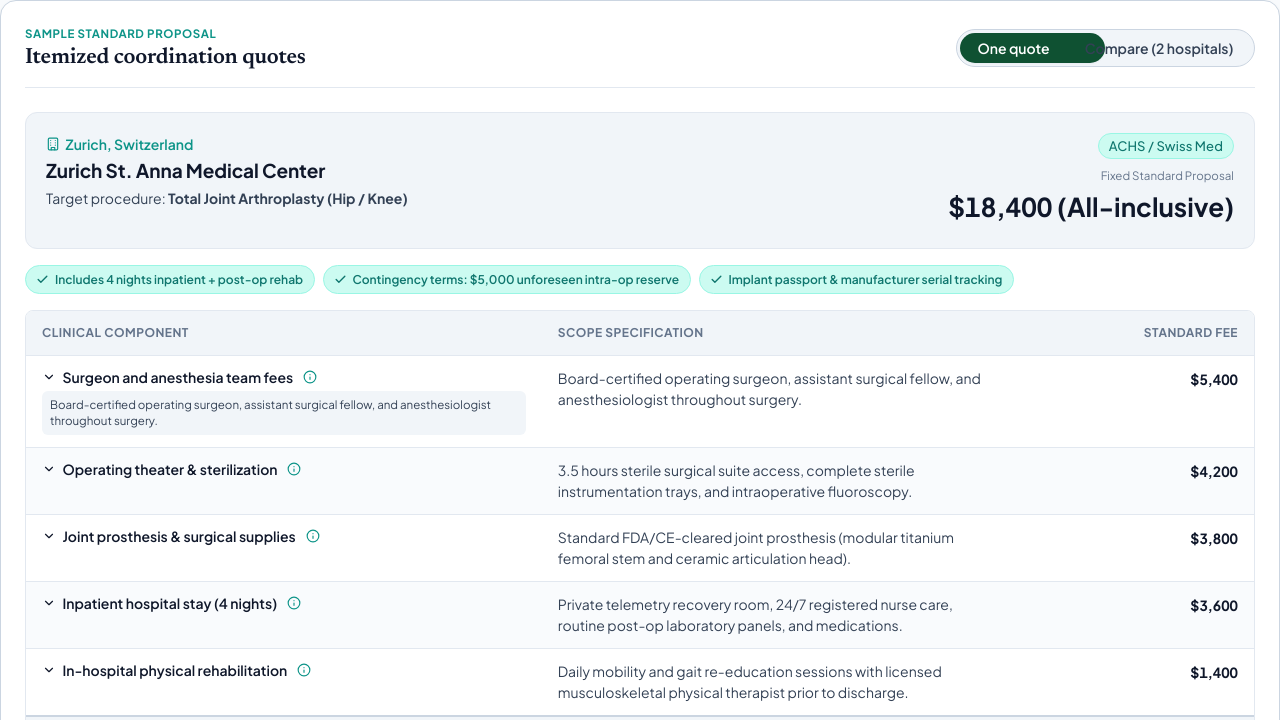
Test case: Interactive ProposalCompare Component › switches to compare mode showing both hospital quotes
This screenshot has width=1280, height=720.
Click the radio button labelled "Compare (2 hospitals)".
click(1159, 48)  # box [1067, 33, 1251, 63]
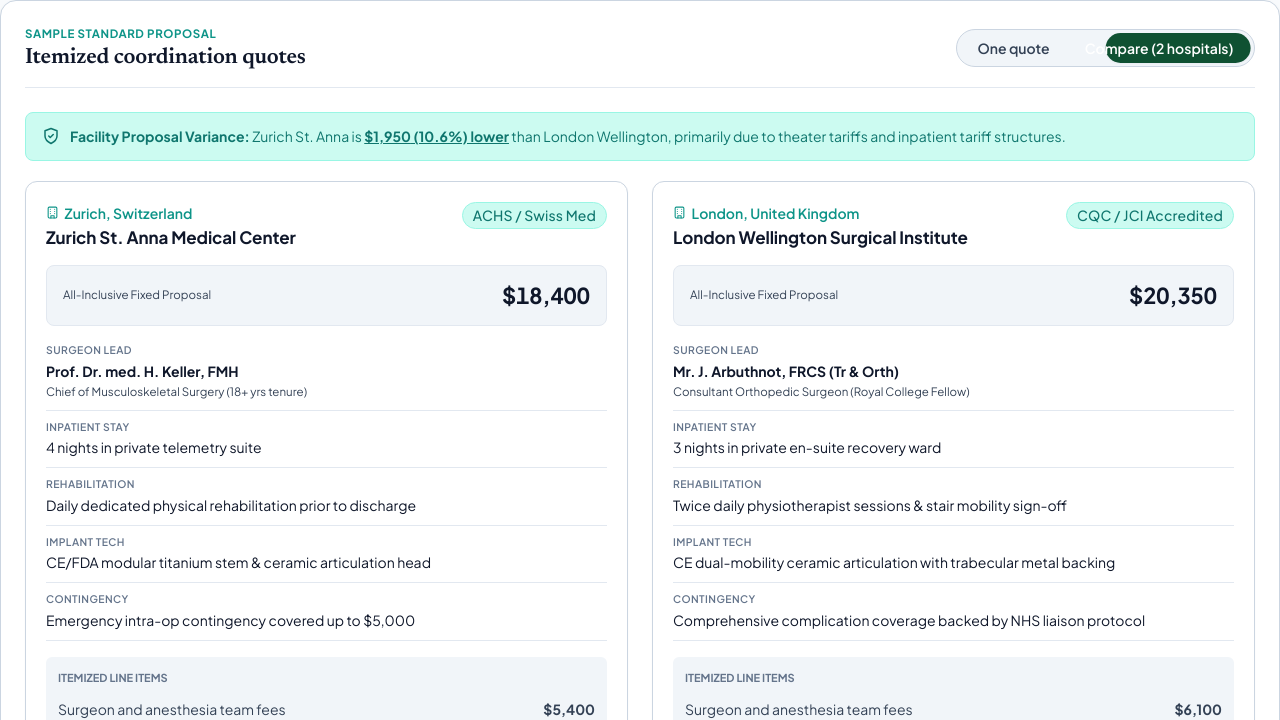
Expected: the heading "Zurich St. Anna Medical Center" is shown, [46, 226, 296, 249]
Expected: the heading "London Wellington Surgical Institute" is shown, [673, 226, 968, 249]
Expected: the text "$20,350" is shown, [1129, 278, 1217, 313]
